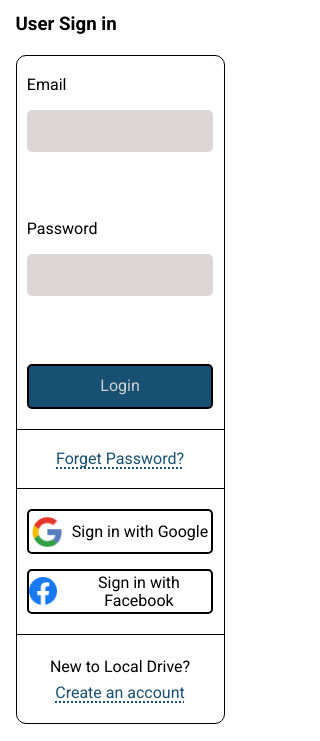
Test: Login component › should render the error field messages if email field fails validation after submission
What coordinates should you click on to do the following:
click the button "Login"
I would click on:
 (120, 386)
Its box is [27, 364, 213, 409].
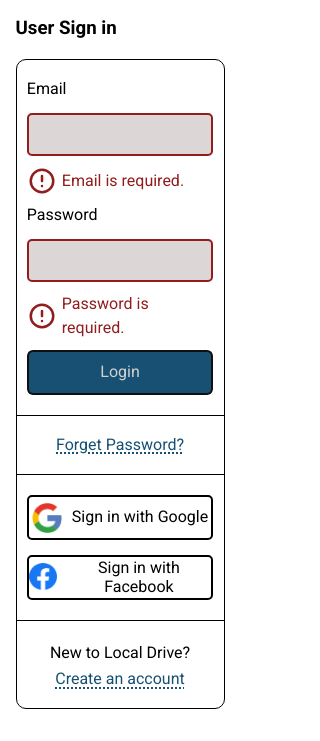
Check: the text "Email is required." is shown, box [62, 171, 184, 190]
Check: the text "Password is required." is shown, box [62, 294, 153, 337]
